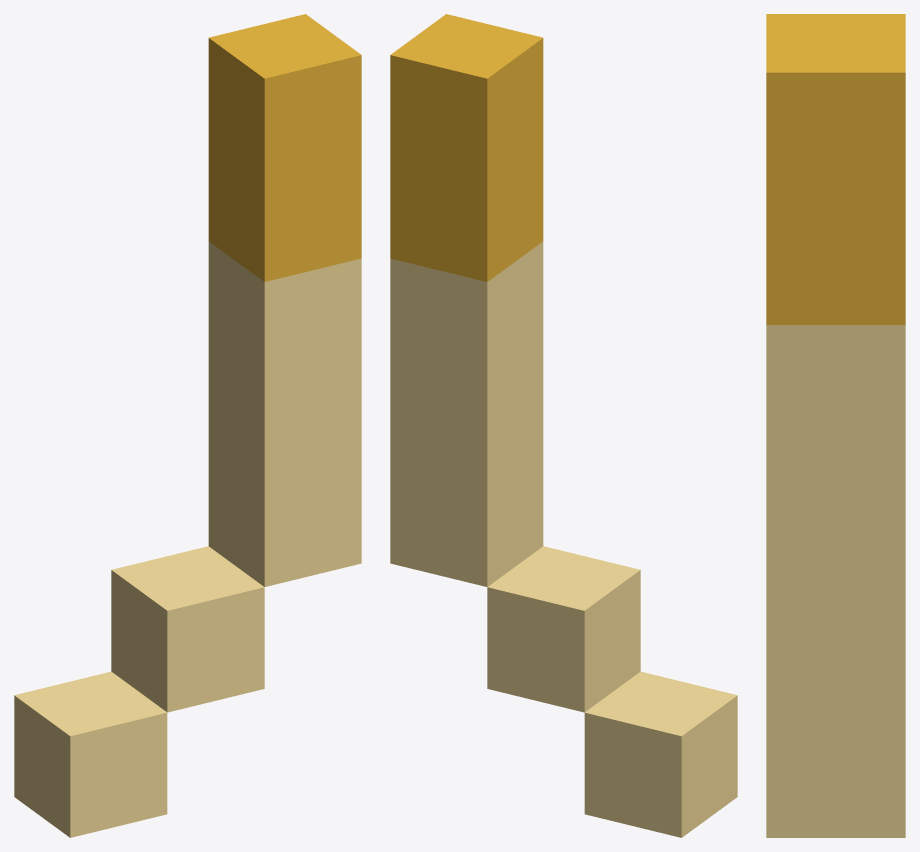
File: woman-13-right_hand_raised.obj
The picture shows the model from 3 angles, left to right: view 1: azimuth 30°, elevation 25°; view 2: azimuth 150°, elevation 25°; view 3: azimuth 270°, elevation 25°; orthographic projection. The views are drawn at different scales.
Parts seen in each view (by area): view 1: right_hand_raised; view 2: right_hand_raised; view 3: right_hand_raised.
Boxes of the visible parts, x1,y1,x2,y2 form: right_hand_raised: (14, 14, 361, 837); right_hand_raised: (390, 14, 737, 837); right_hand_raised: (766, 14, 905, 837).
Bounding box in the file's own units: 0.3 × 0.7 × 0.1.
Materials: 1 (1 with a texture image).
